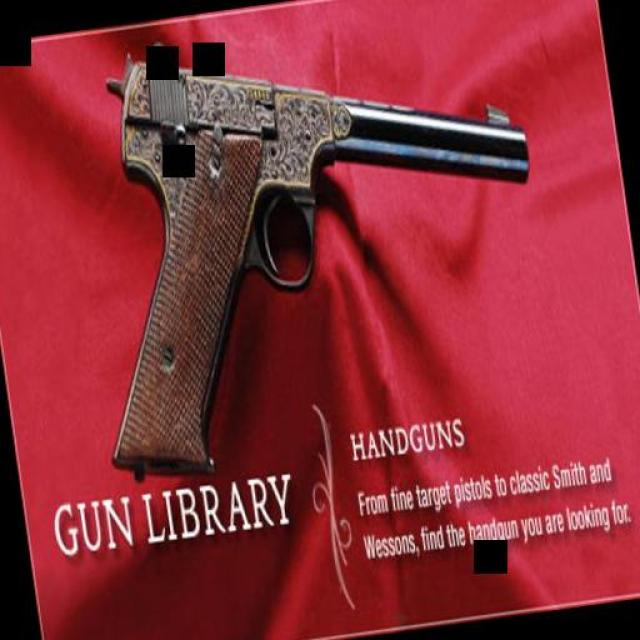gun: (41, 0, 566, 484)
